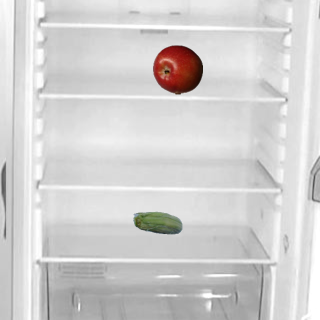Apple Braeburn: (152, 44, 202, 94)
Corn Husk: (132, 199, 182, 249)
